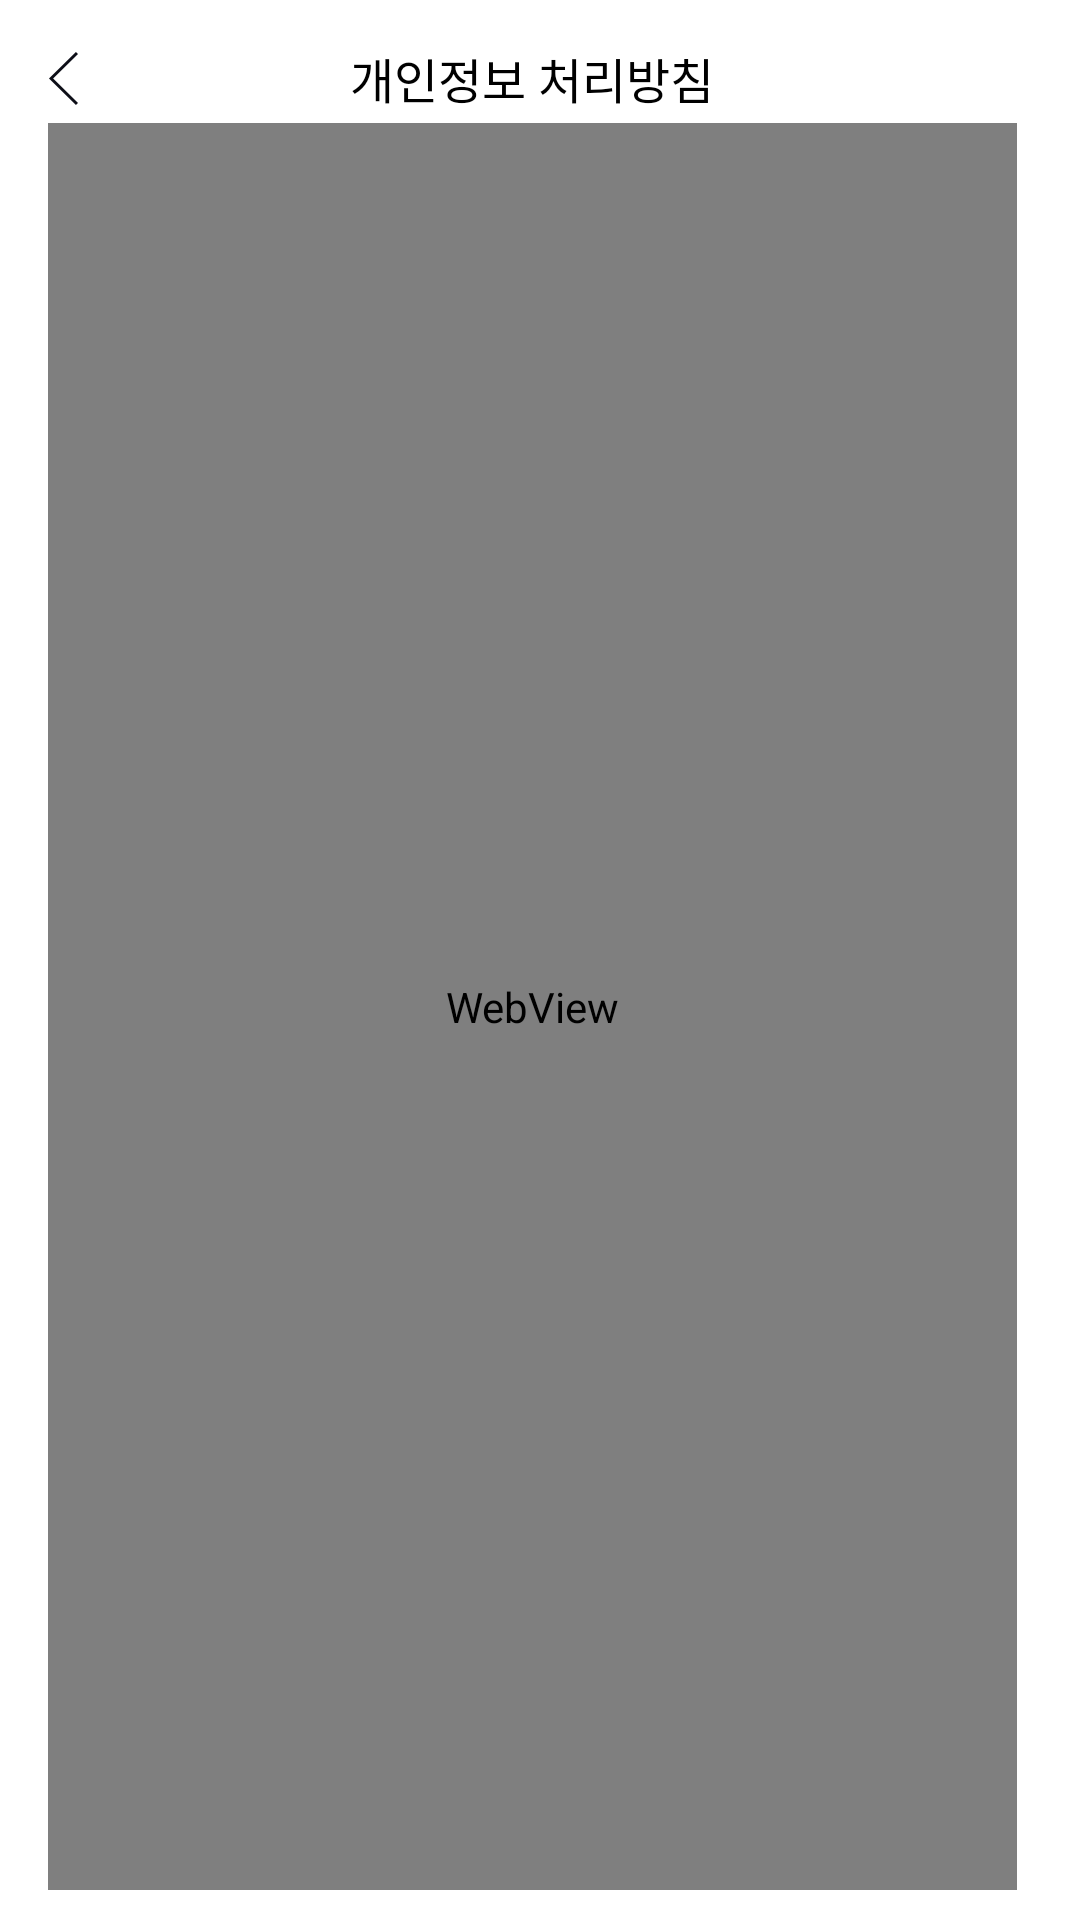

Screen size 1080px×1920px. Icon name, then its box in pixels as (x1, y1, x2, y2):
back: (49, 52, 78, 105)
